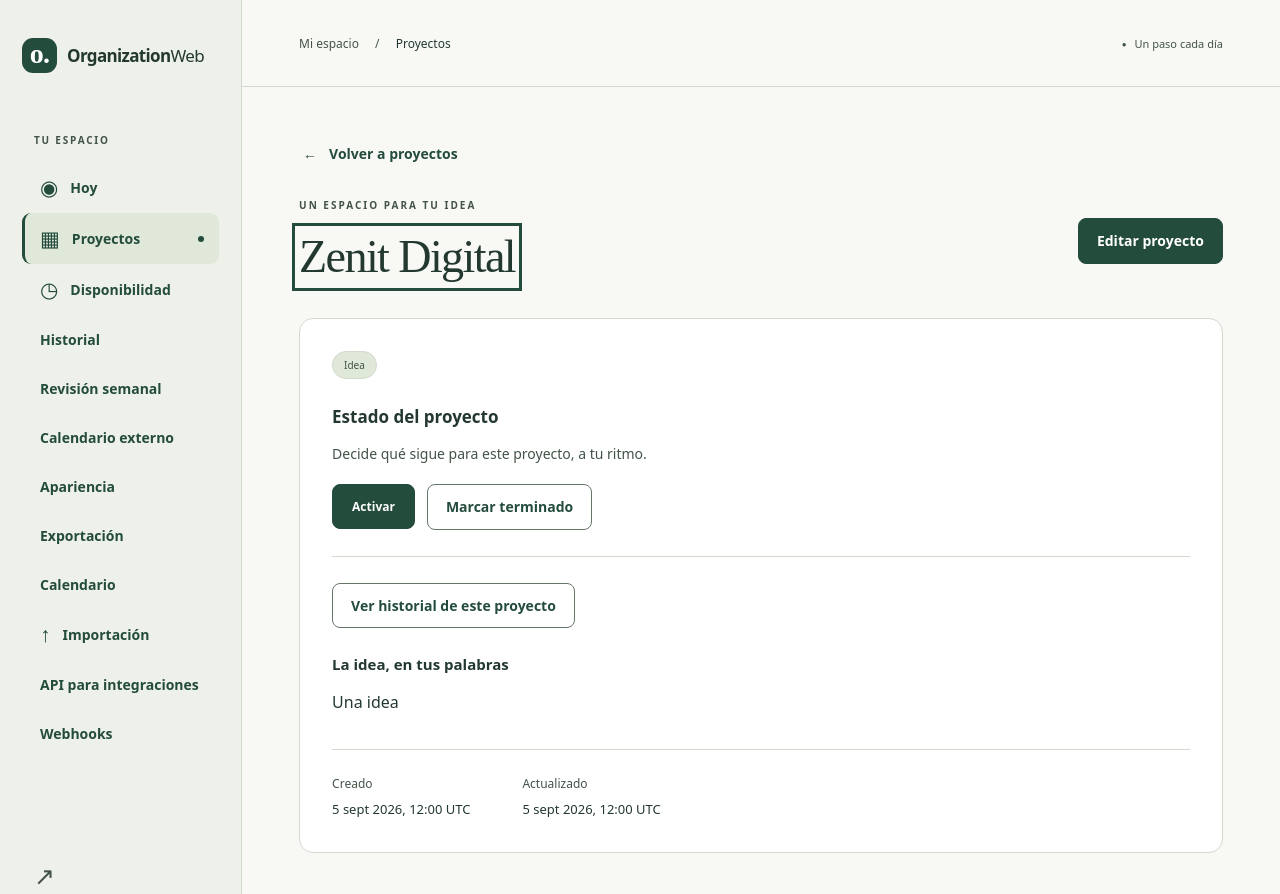
Test: @s1 @s15 idea mediante Activar confirma active con ETag del único GET
Click the button "Activar" at (374, 507), box x1=332 y1=484 x2=415 y2=529
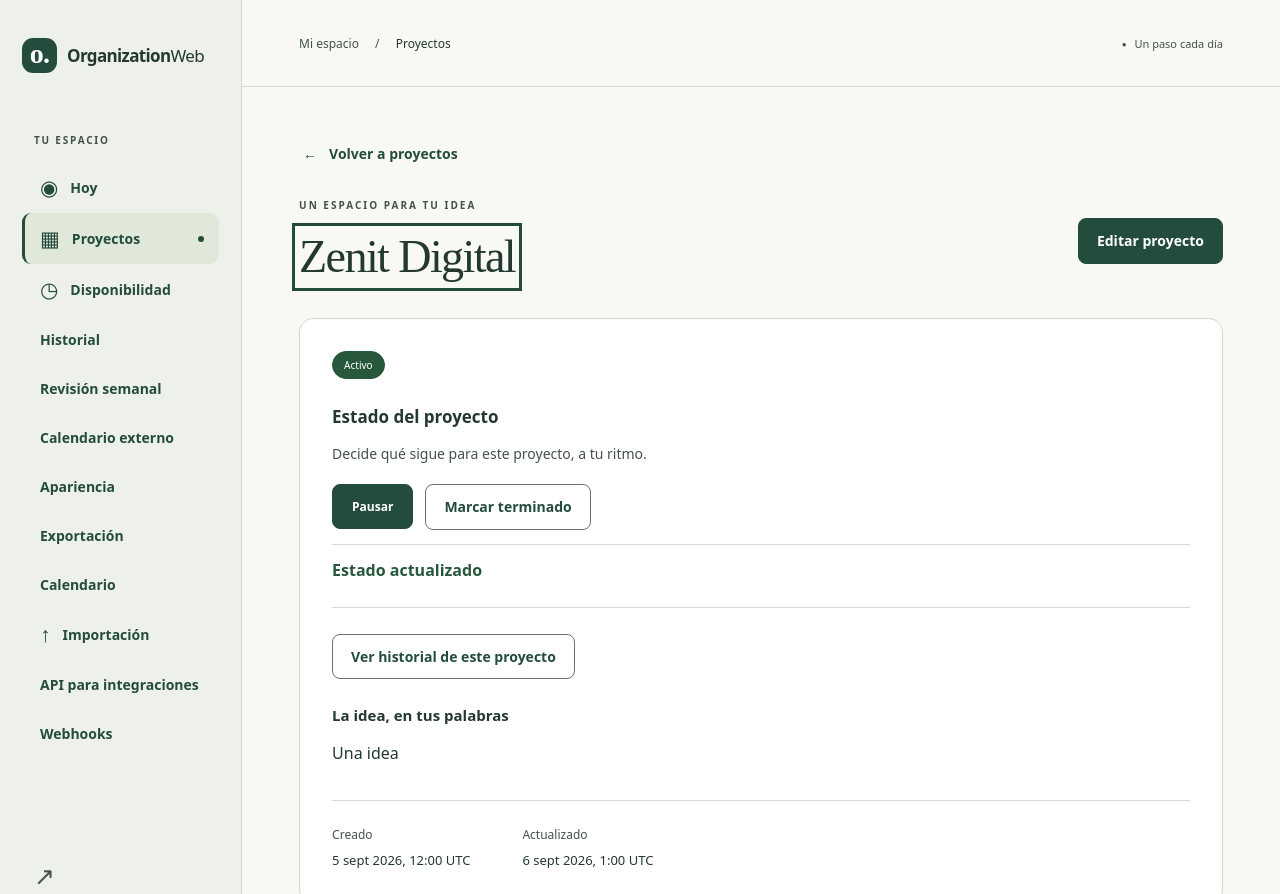
Expected: the message reads "Estado actualizado", x1=332 y1=558 x2=482 y2=580
Expected: the text "Activo" is shown, x1=332 y1=351 x2=385 y2=379
